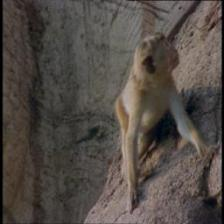monkey: (131, 24, 184, 84)
